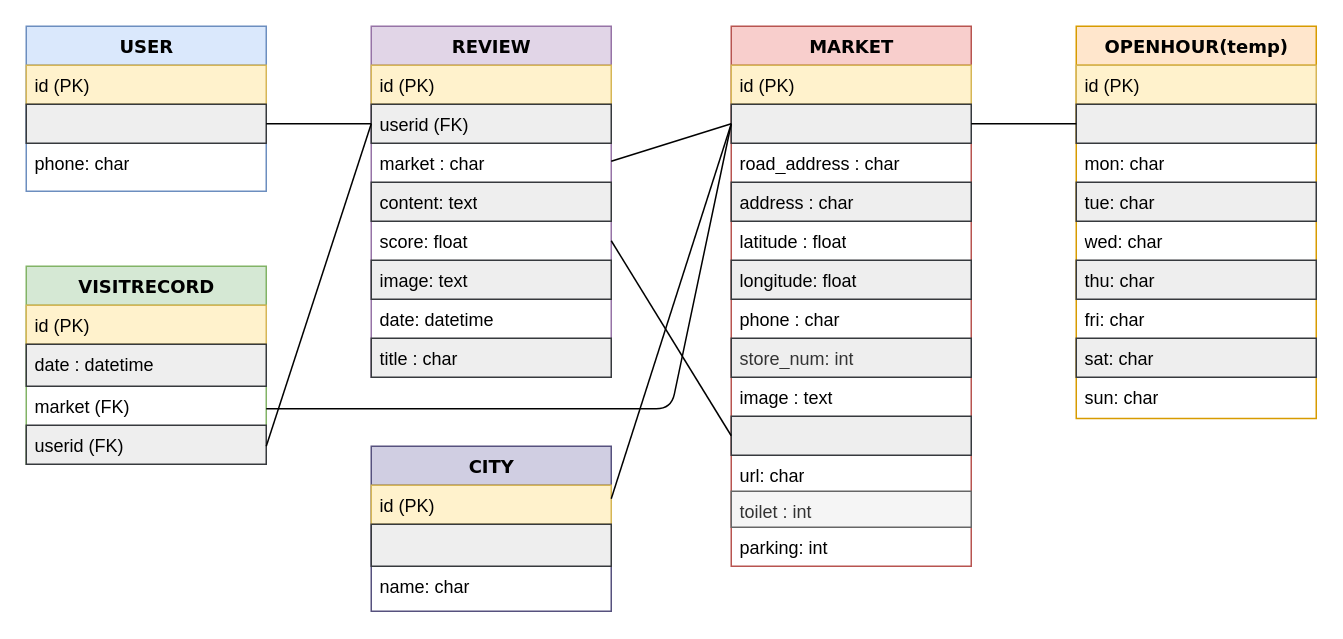
This 1343x639 diagram has some shape labels left out. The shapes that lost their labels are listed below. From the top down, each one's centre as x and y in pixels, then its label:
At point (145, 123): "userid: char".
At point (850, 123): "name : char".
At point (1195, 123): "name (FK)".
At point (850, 435): "avg_score : float".
At point (490, 544): "cityid : autoincrement".
